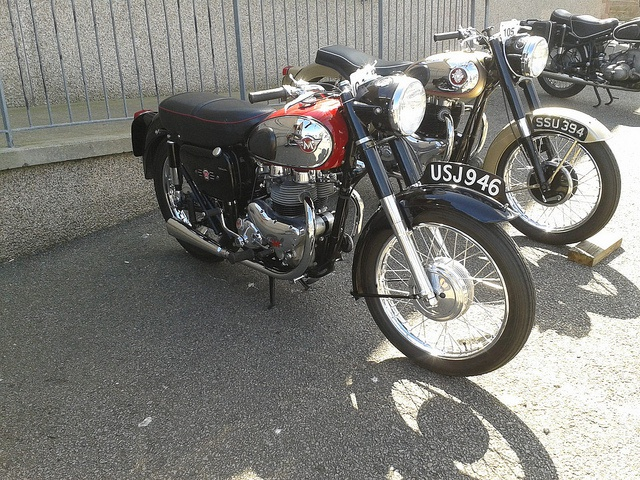non-vehicle: (130, 73, 540, 380), (278, 31, 623, 245), (517, 7, 640, 107)
